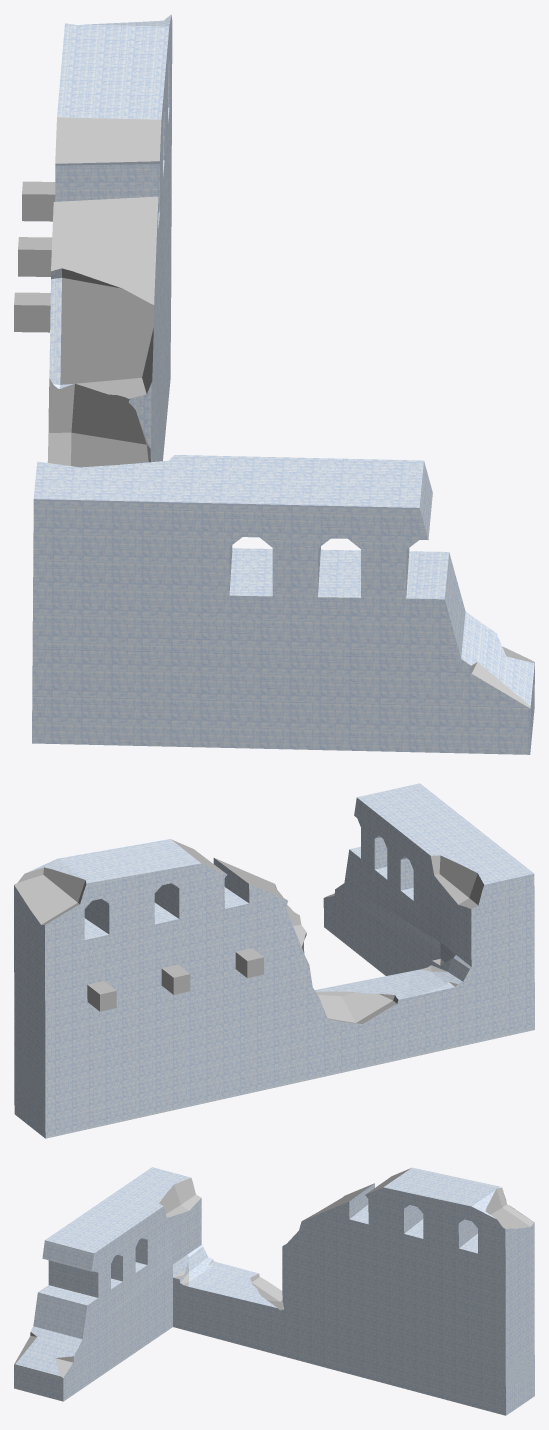
Rendered from Fort2.fbx.
3 views of the same model, one above another, from view 1: azimuth 30°, elevation 25°; view 2: azimuth 150°, elevation 25°; view 3: azimuth 270°, elevation 25° (orthographic). The views are drawn at different scales.
Visible parts, largest first — view 1: FortWall2.002; view 2: FortWall2.002; view 3: FortWall2.002.
Boxes of the visible parts, <box> form: FortWall2.002: <box>14,14,534,754</box>; FortWall2.002: <box>14,783,534,1138</box>; FortWall2.002: <box>14,1167,534,1415</box>.
Size of the model in its own units: 1852 by 1434 by 3349.
